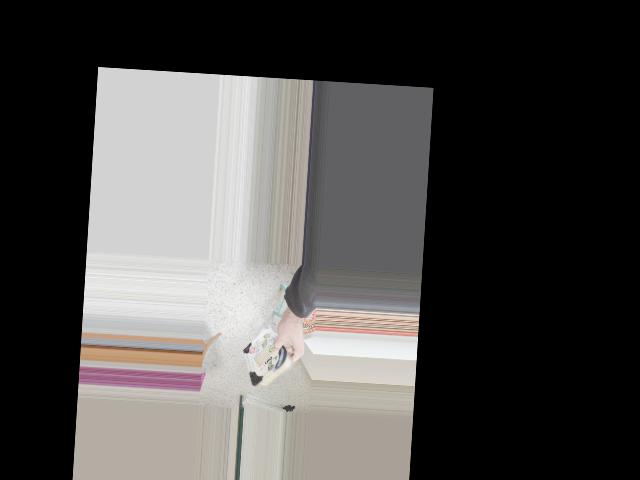cheese: (233, 330, 310, 389)
